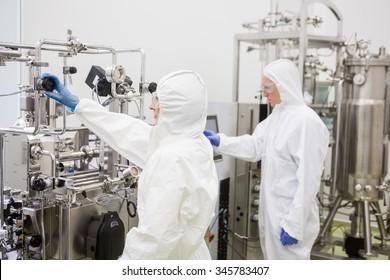gloves: (41, 74, 79, 112), (280, 227, 300, 246), (203, 129, 220, 147)
